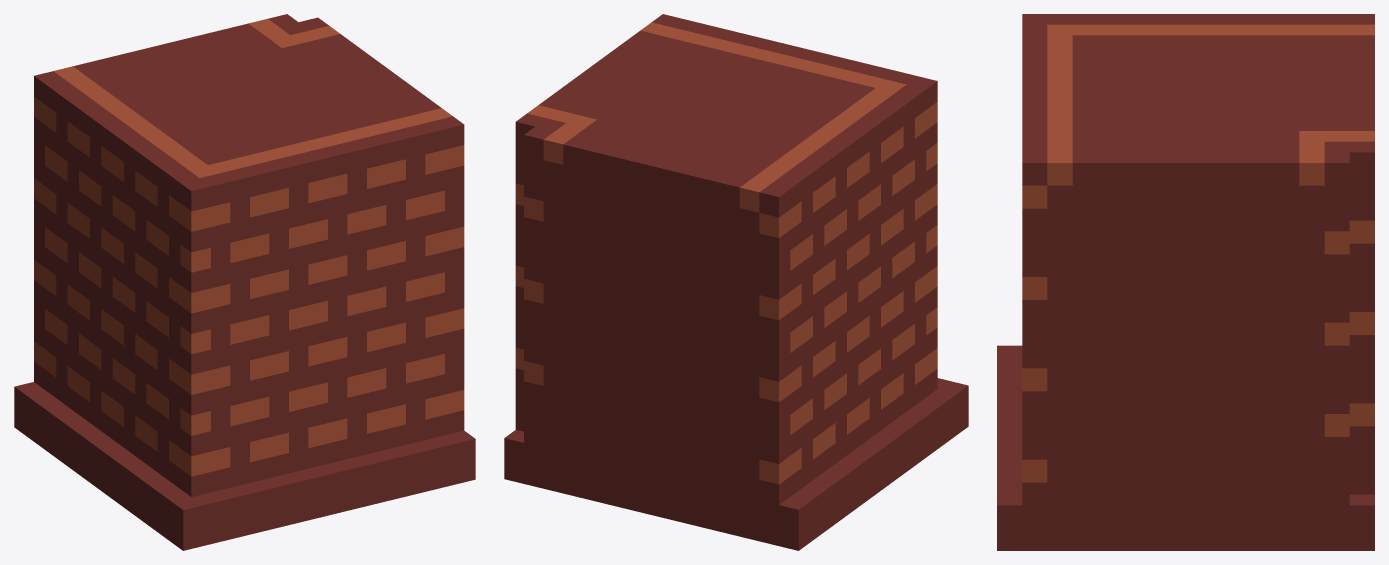
Rendered from dungeon_b_a_inner_wall_corner_b.obj.
3 views of the same model, side by side, from view 1: azimuth 30°, elevation 25°; view 2: azimuth 150°, elevation 25°; view 3: azimuth 270°, elevation 25° (orthographic). The views are drawn at different scales.
Bounding box in the file's own units: 1.5 × 1.7 × 1.5.
Materials: 1 (1 with a texture image).
